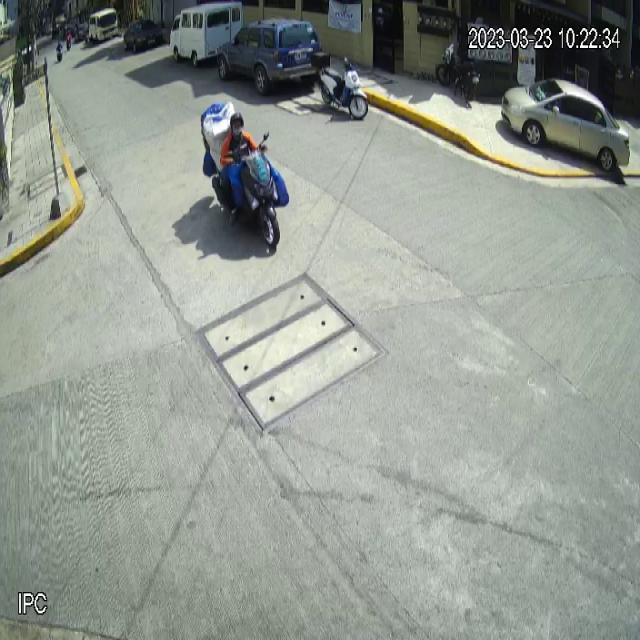Car: (500, 80, 630, 172), (217, 18, 323, 96)
Motorcycle: (211, 130, 280, 248), (310, 50, 369, 119)
Van: (170, 3, 242, 68)
